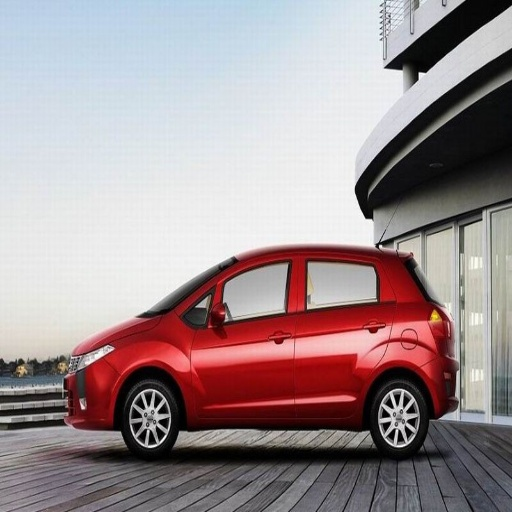back_left_door: (296, 255, 392, 415)
front_left_door: (196, 256, 296, 414)
